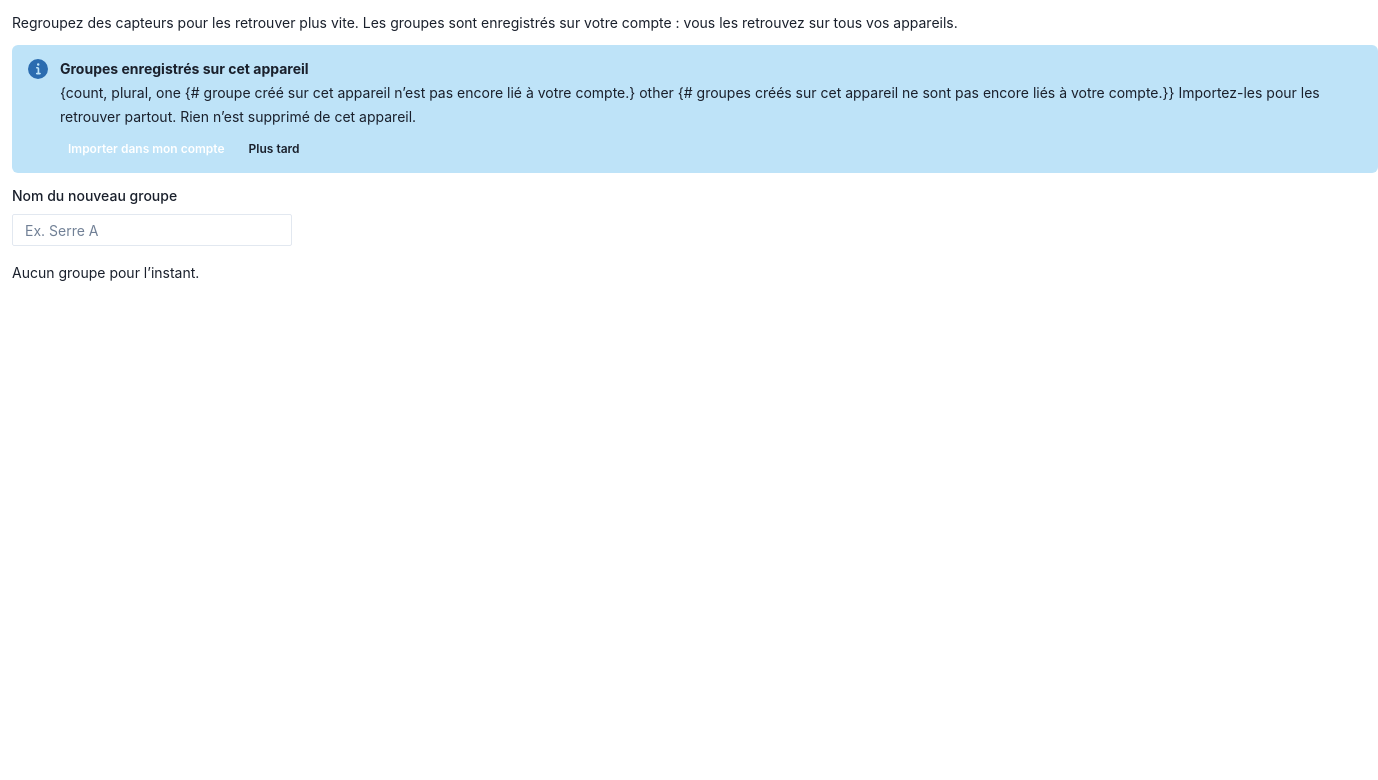
Test: SensorGroupsSettings — legacy device-local groups › offers a one-time import and creates the group on the account
The image size is (1378, 780).
Expected: the message with test id "groups-import-offer" is shown, [12,45,1377,173]
Click the button "Importer dans mon compte": (146, 149) [60,137,232,161]
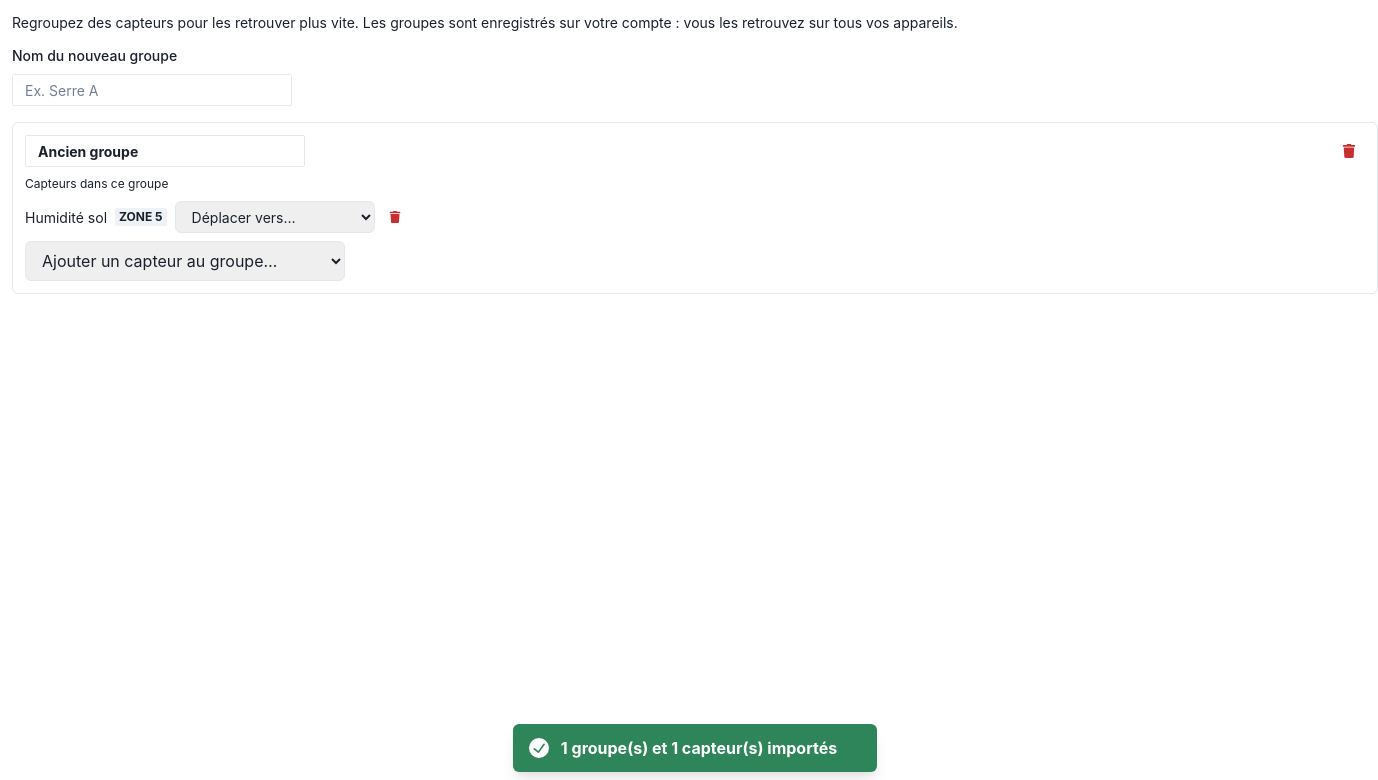
Expected: the field showing "Ancien groupe" is shown, [25,135,305,167]
